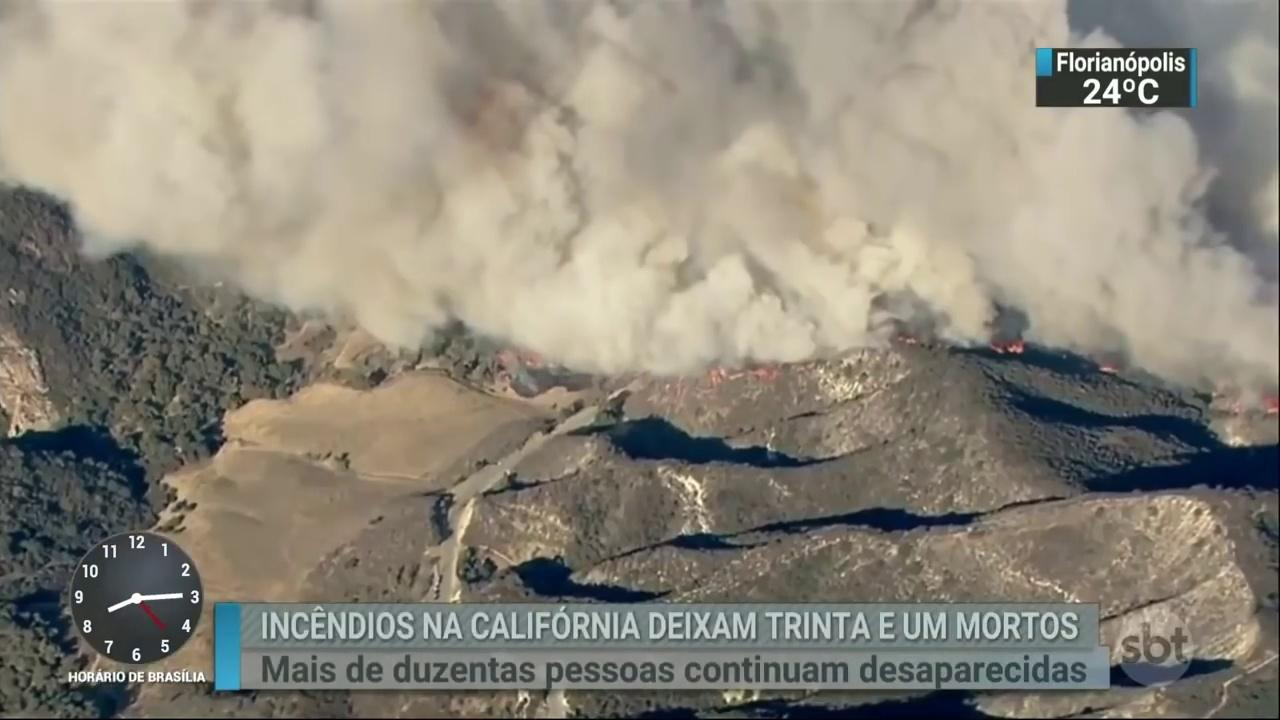smoke: (226, 8, 994, 250)
